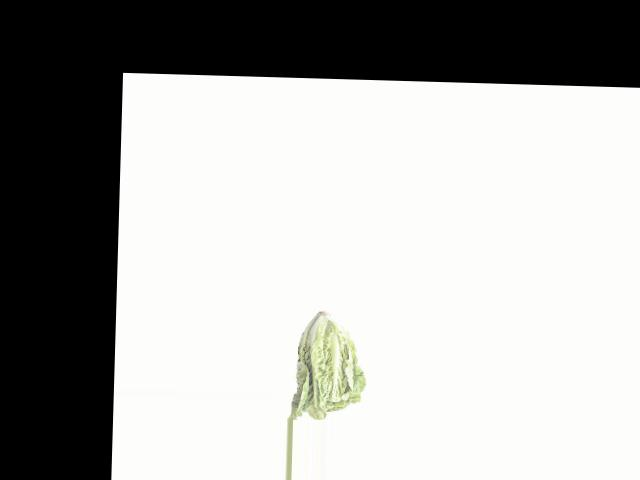lettuce: (290, 313, 371, 421)
